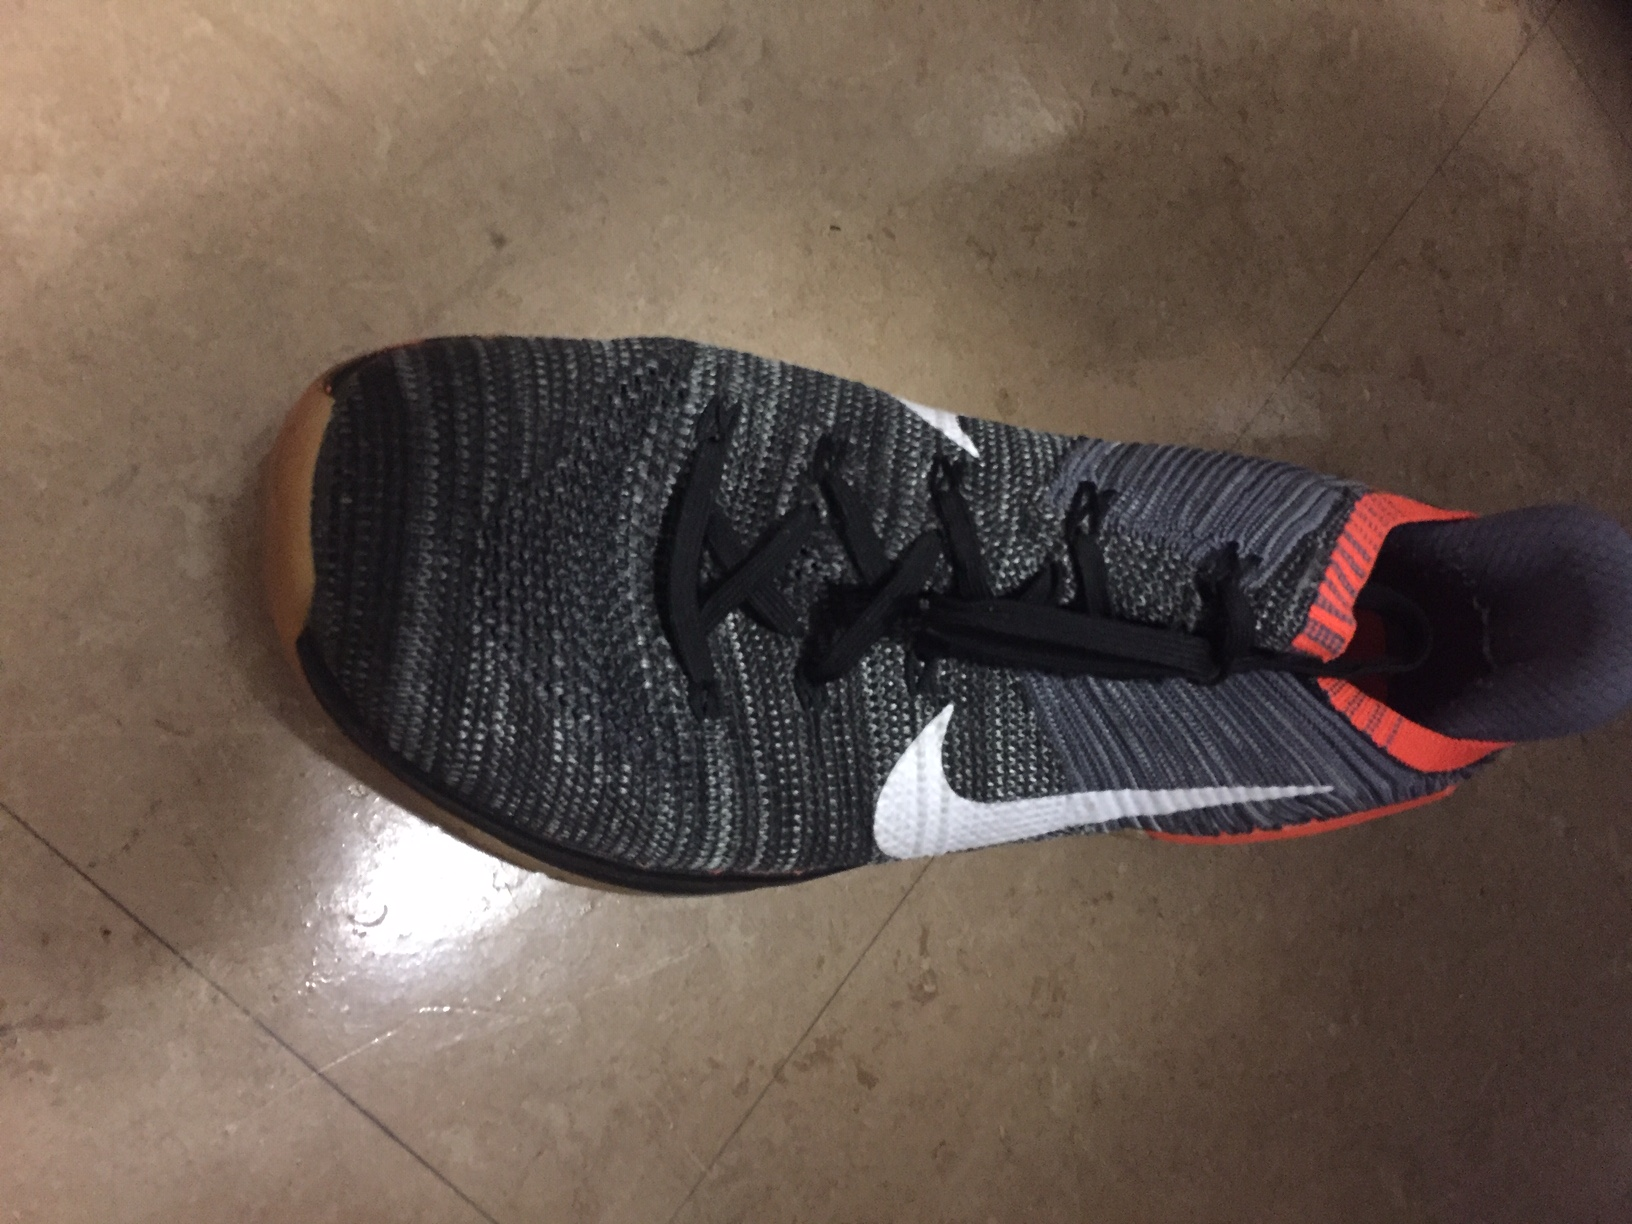car: (233, 330, 1631, 901)
